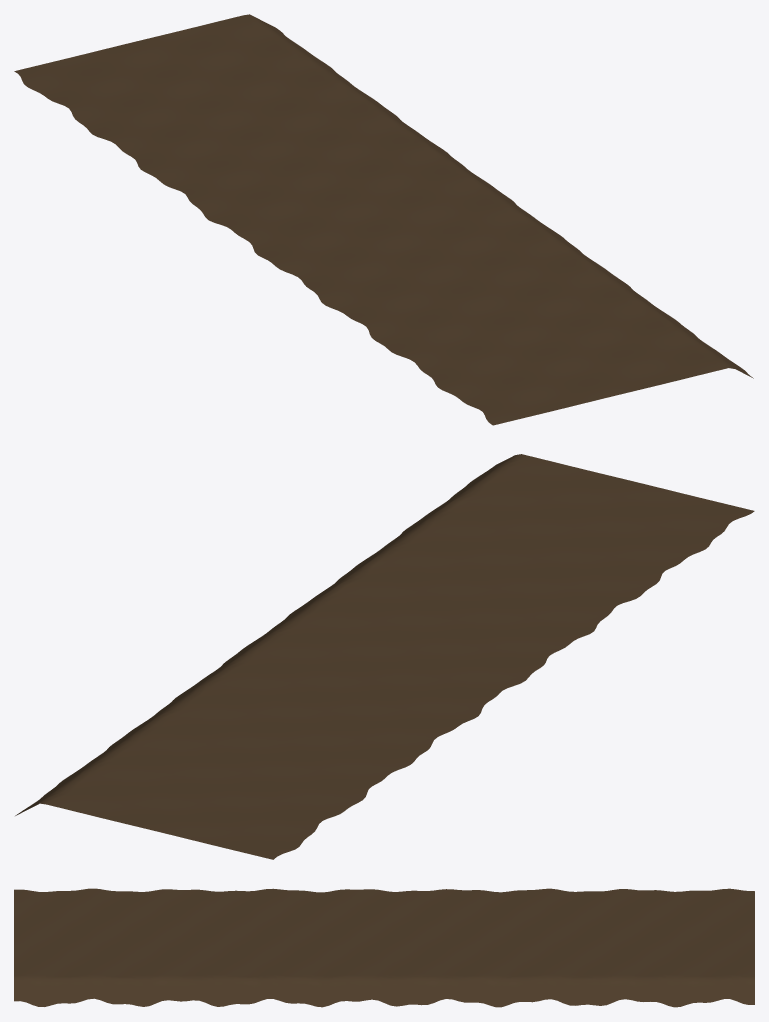
File: SM_Bank.fbx
3 renders of one model, top to bottom at view 1: azimuth 30°, elevation 25°; view 2: azimuth 150°, elevation 25°; view 3: azimuth 270°, elevation 25°, orthographic. The views are drawn at different scales.
Visible parts, largest first — view 1: SM_Bank; view 2: SM_Bank; view 3: SM_Bank.
Part boxes in pixels (box(x1,y1,x2,y2)): SM_Bank: box(14, 14, 753, 425); SM_Bank: box(15, 454, 754, 859); SM_Bank: box(14, 888, 754, 1007).
Size of the model in its own units: 3892 by 12000 by 313.
